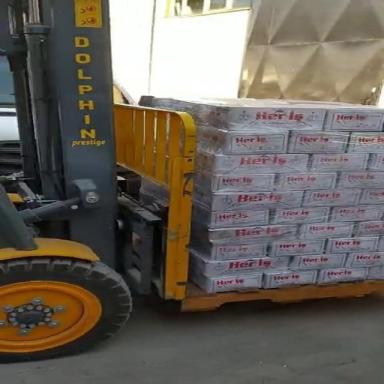forklift: (1, 2, 382, 366)
